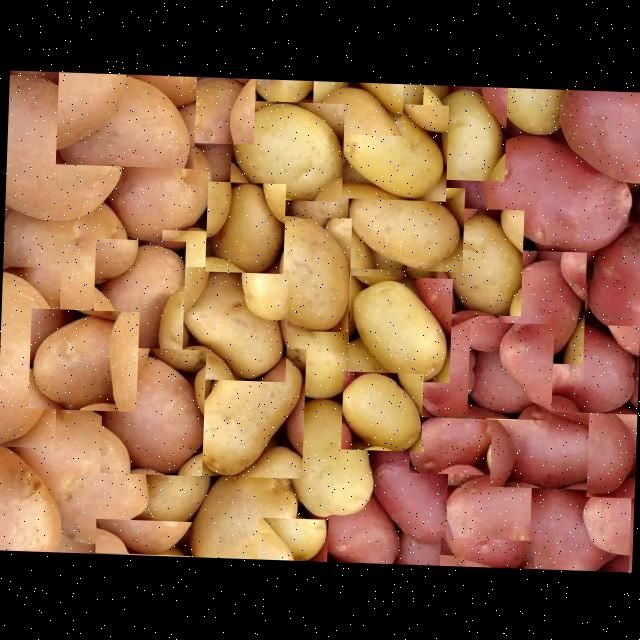Defected potato: (7, 400, 148, 544), (476, 131, 634, 255), (4, 78, 126, 222), (0, 196, 126, 320), (80, 134, 212, 240), (54, 70, 196, 168), (99, 346, 205, 474), (350, 434, 468, 544), (410, 307, 520, 419), (444, 463, 577, 553), (27, 306, 138, 411), (90, 237, 184, 358), (488, 403, 613, 489), (0, 265, 59, 447), (496, 248, 586, 363), (539, 322, 640, 414), (528, 484, 630, 570), (298, 480, 404, 562), (466, 320, 553, 419), (559, 88, 640, 190), (126, 453, 212, 539), (0, 440, 63, 550), (408, 401, 500, 474), (582, 222, 640, 335), (164, 74, 254, 144), (585, 391, 637, 497), (94, 518, 193, 554), (438, 536, 534, 568)
Potato: (187, 343, 305, 478), (176, 265, 288, 381), (274, 398, 374, 518), (228, 98, 344, 200), (191, 450, 298, 559), (346, 274, 452, 382), (256, 214, 351, 331), (337, 100, 448, 200), (345, 183, 464, 271), (435, 206, 523, 315), (419, 84, 506, 180), (203, 180, 284, 273), (269, 310, 355, 397), (340, 370, 422, 450), (290, 159, 369, 235), (158, 228, 225, 314), (310, 80, 402, 134), (487, 86, 570, 138), (256, 516, 327, 560), (249, 78, 315, 105)
